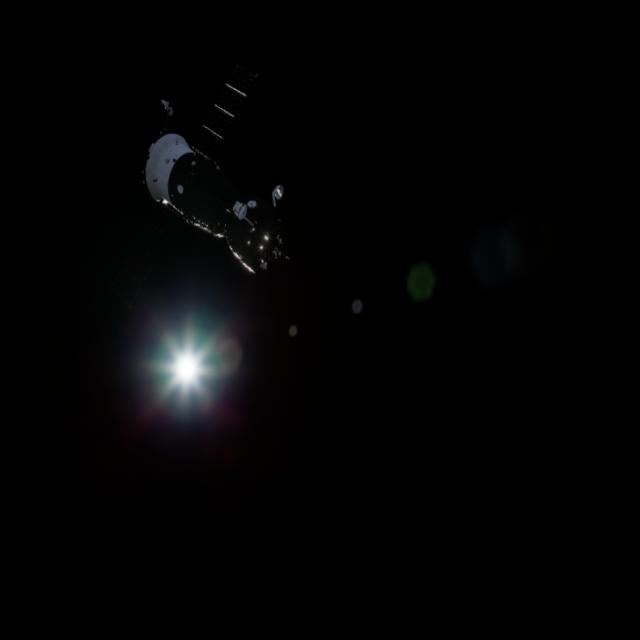Satellites revolving around earth: (134, 126, 298, 280)
